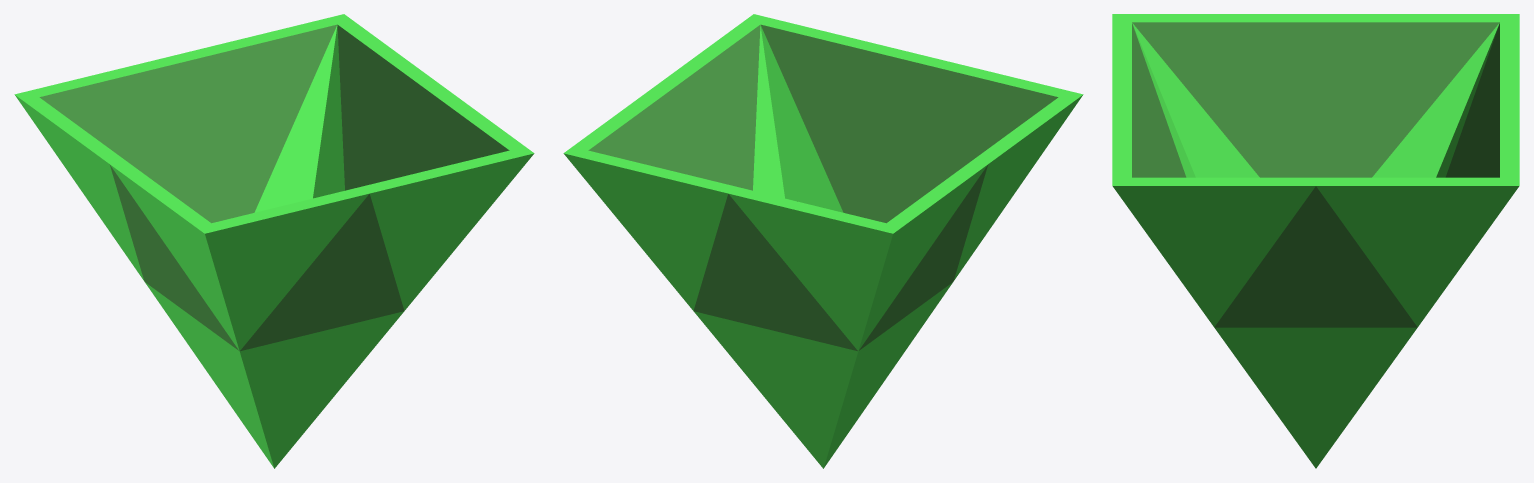
File: bin.Pyrimad4.fbx
3 renders of one model, left to right at view 1: azimuth 30°, elevation 25°; view 2: azimuth 150°, elevation 25°; view 3: azimuth 270°, elevation 25°, orthographic. The views are drawn at different scales.
Parts seen in each view (by area): view 1: Cube; view 2: Cube; view 3: Cube.
Boxes of the visible parts, <box> form: Cube: <box>14,14,534,468</box>; Cube: <box>563,14,1083,468</box>; Cube: <box>1112,14,1519,468</box>.
Bounding box in the file's own units: 200 × 200 × 200.
